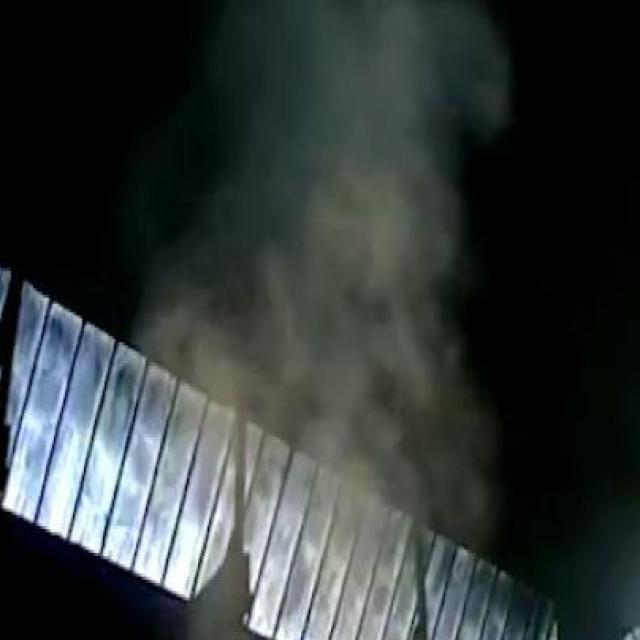fire: (135, 302, 500, 640), (233, 0, 510, 298)
